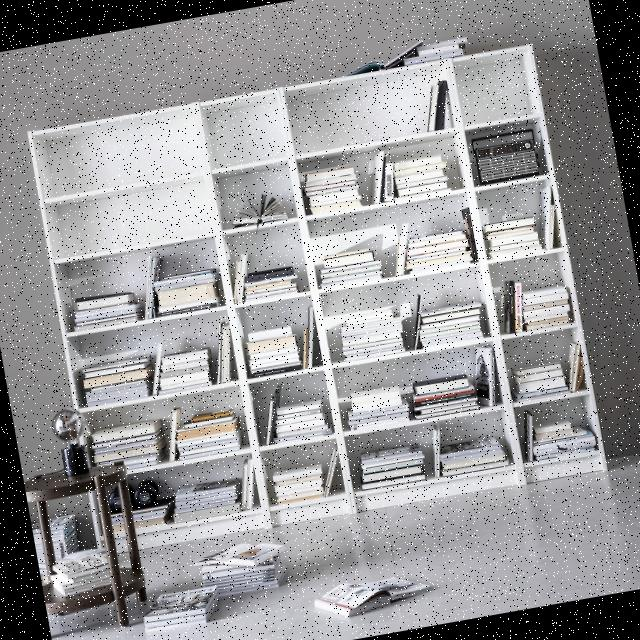Shelf: (19, 29, 626, 572)
